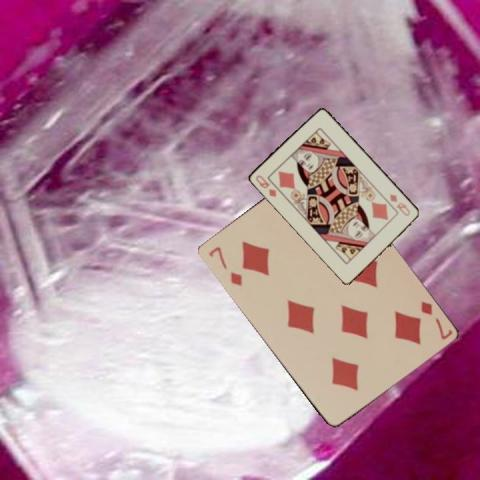7d: (206, 244, 243, 287), (418, 298, 454, 342)
Qd: (252, 172, 277, 199), (387, 192, 411, 218)
